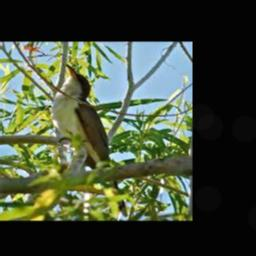Cuckoo: (51, 64, 128, 217)
